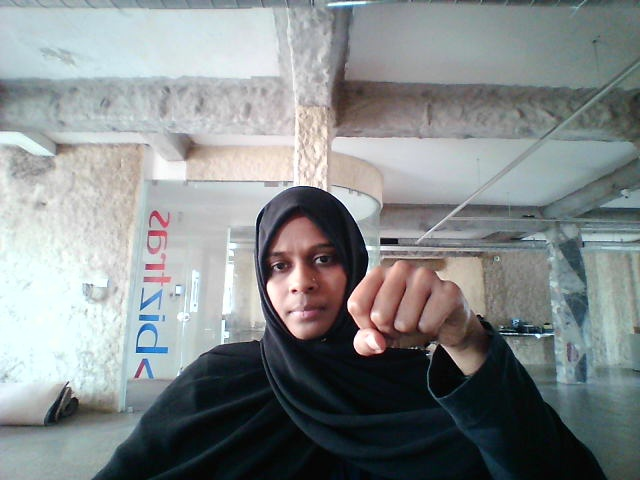YES: (339, 250, 497, 381)
